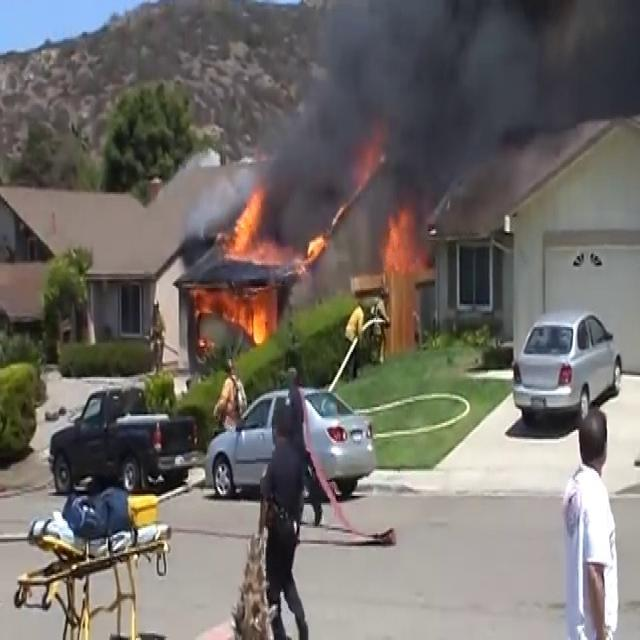Fire: (187, 282, 279, 352), (379, 202, 430, 288), (232, 188, 282, 264)
Smoke: (255, 0, 640, 228)
